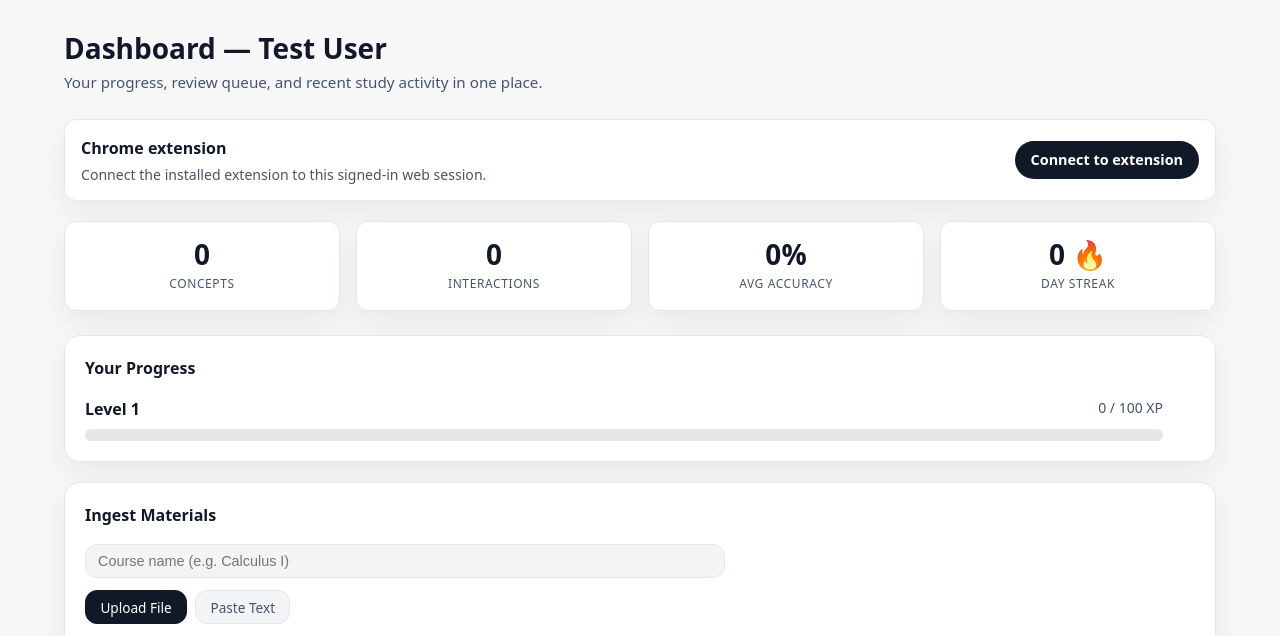
Test case: Dashboard Comprehensive › handles tab switching and text ingestion
Step 1. Click the button "Paste Text" → (243, 607), box [195,590,290,624]
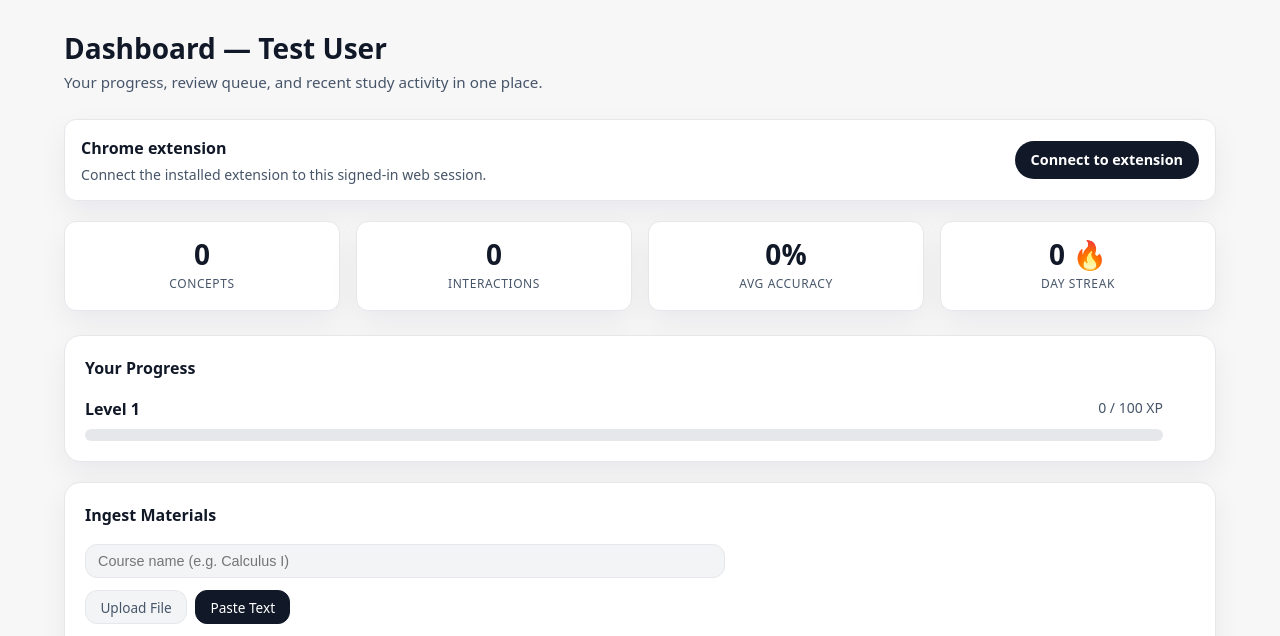
Step 2. Type "Math 101" into the field with placeholder "Course name (e.g. Calculus I)" → (405, 561), box [85,544,725,578]
(page scrolled)
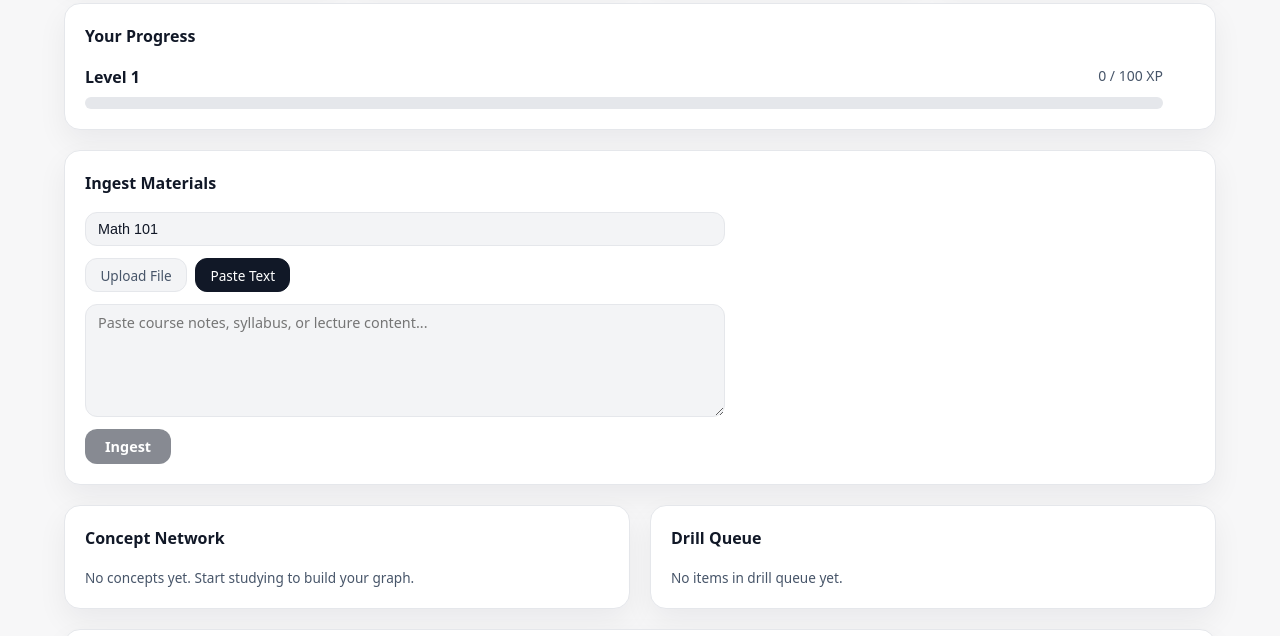
Step 3. Type "Calculus is fun" into the text box with placeholder "Paste course notes, syllabus, or lecture content..." → (405, 360), box [85,304,725,417]
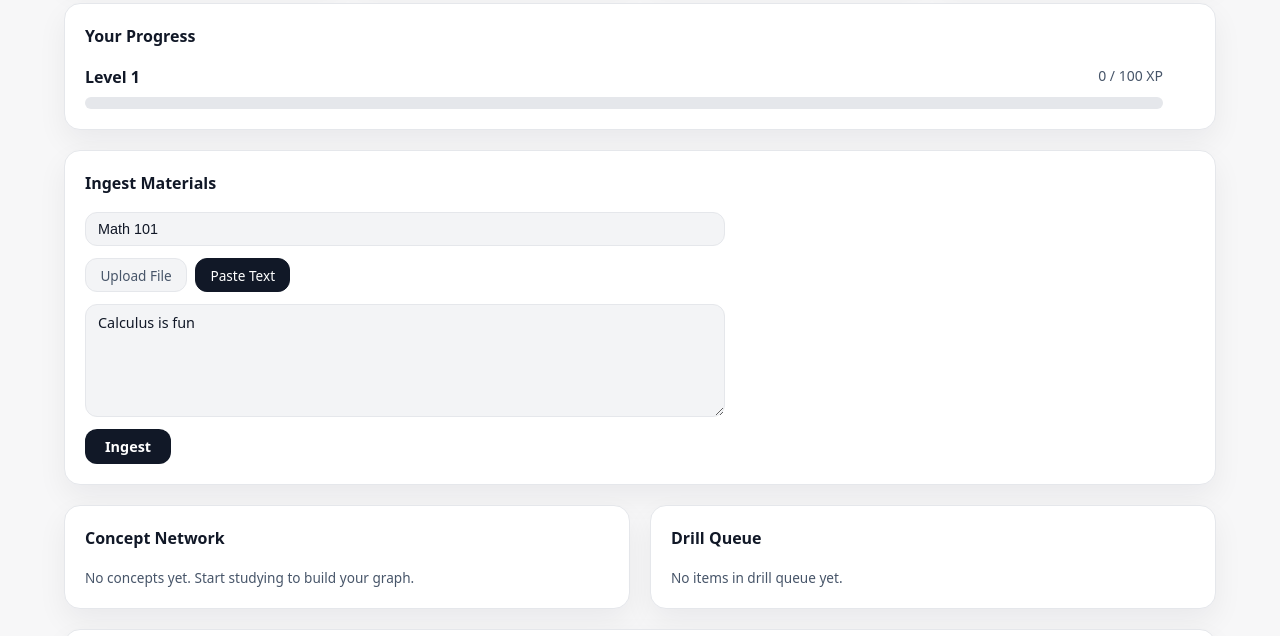
Step 4. Click the button "Ingest" → (128, 446), box [85,429,171,464]
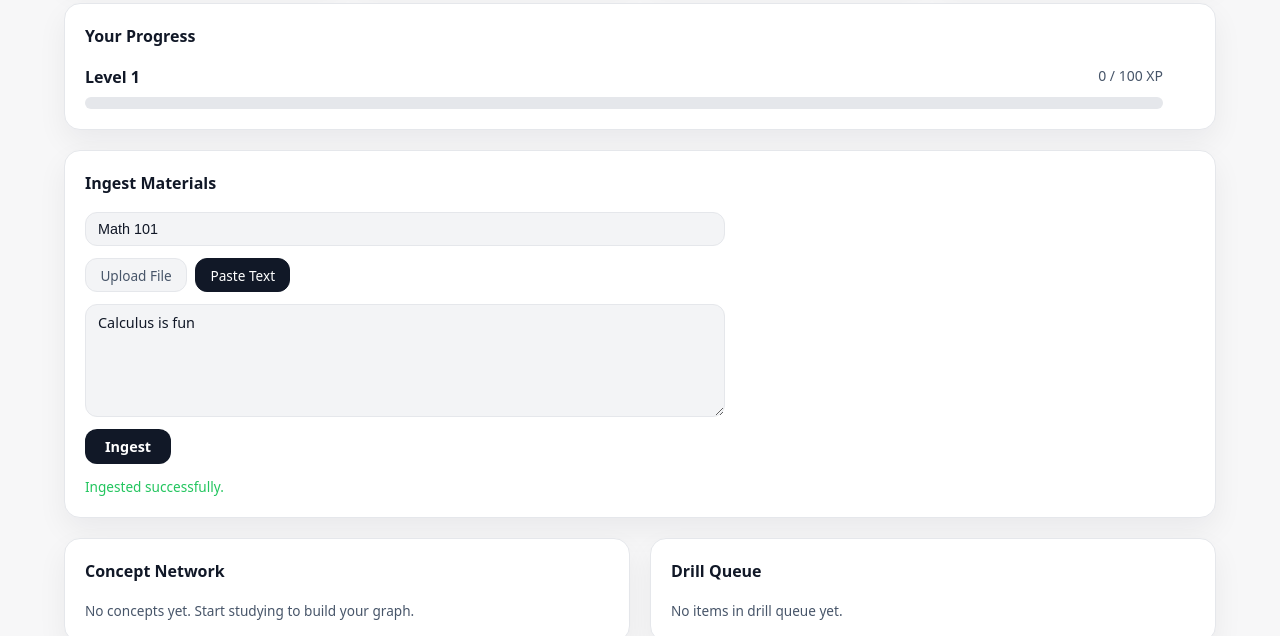
Check: the text "Ingested successfully." is shown, box [85,477,224,496]
